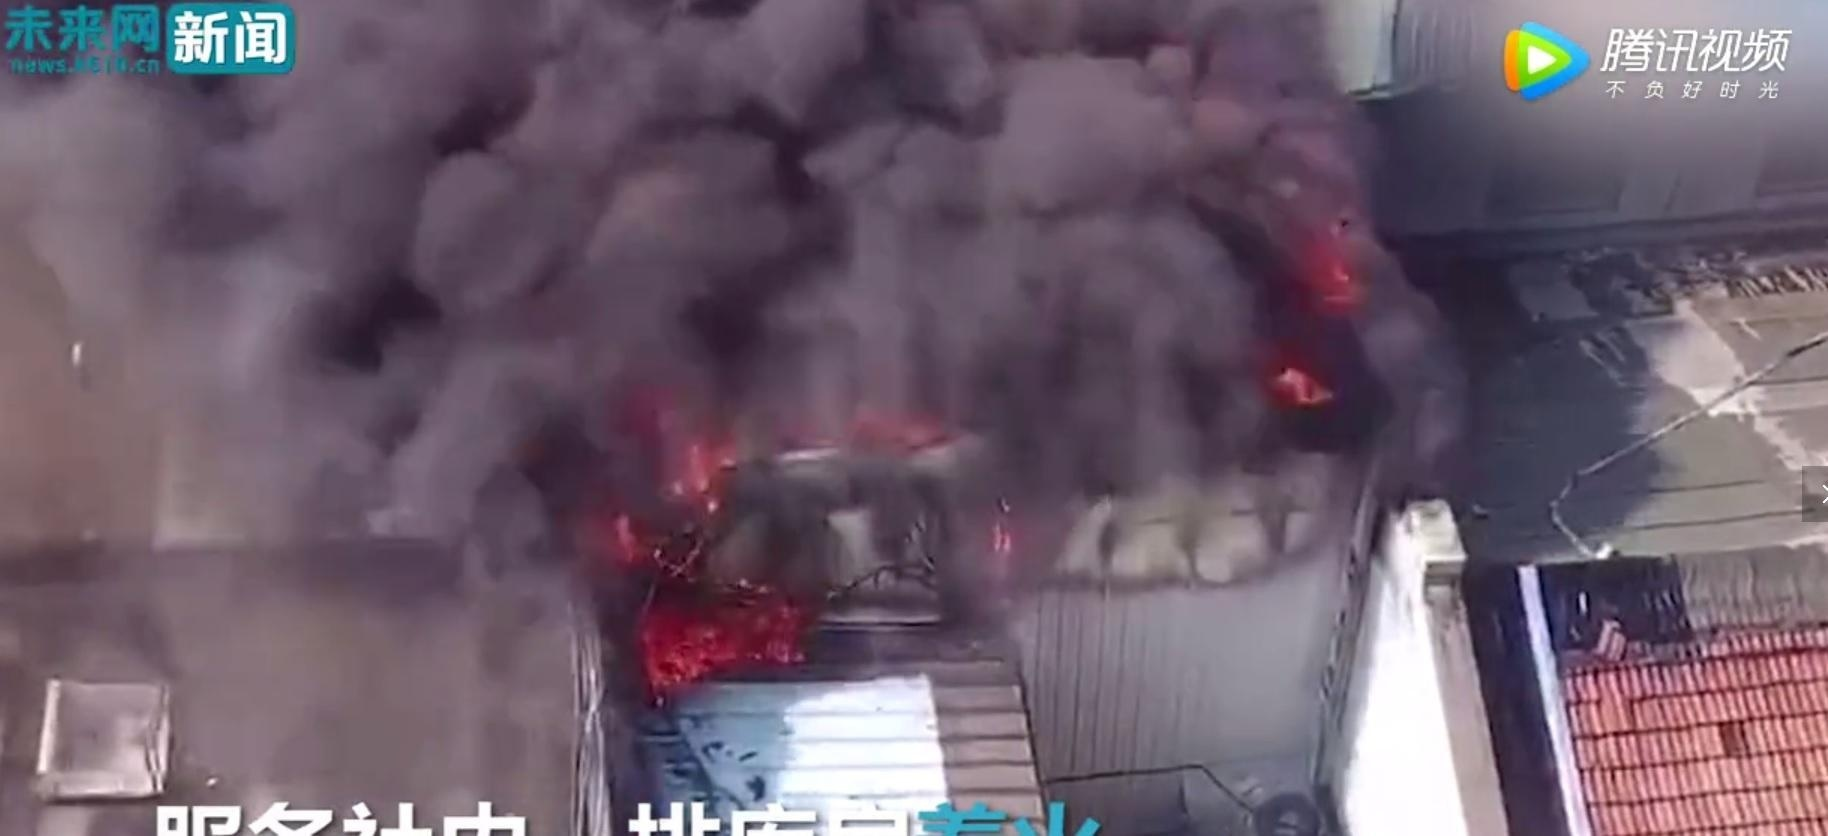fire: (606, 444, 814, 694), (1271, 357, 1333, 405)
